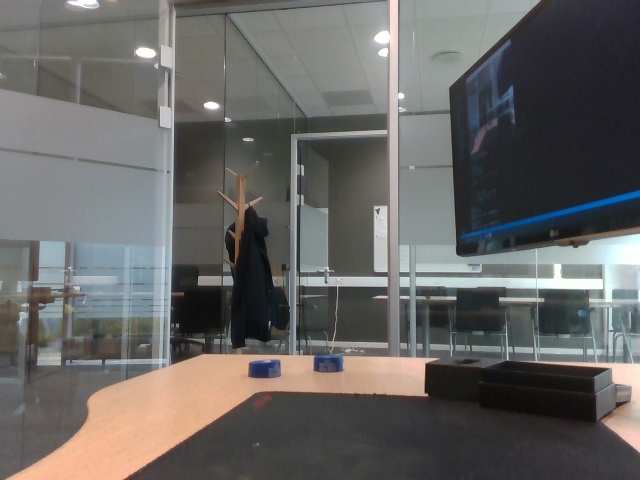alfa: (244, 354, 287, 382), (308, 350, 350, 376)
